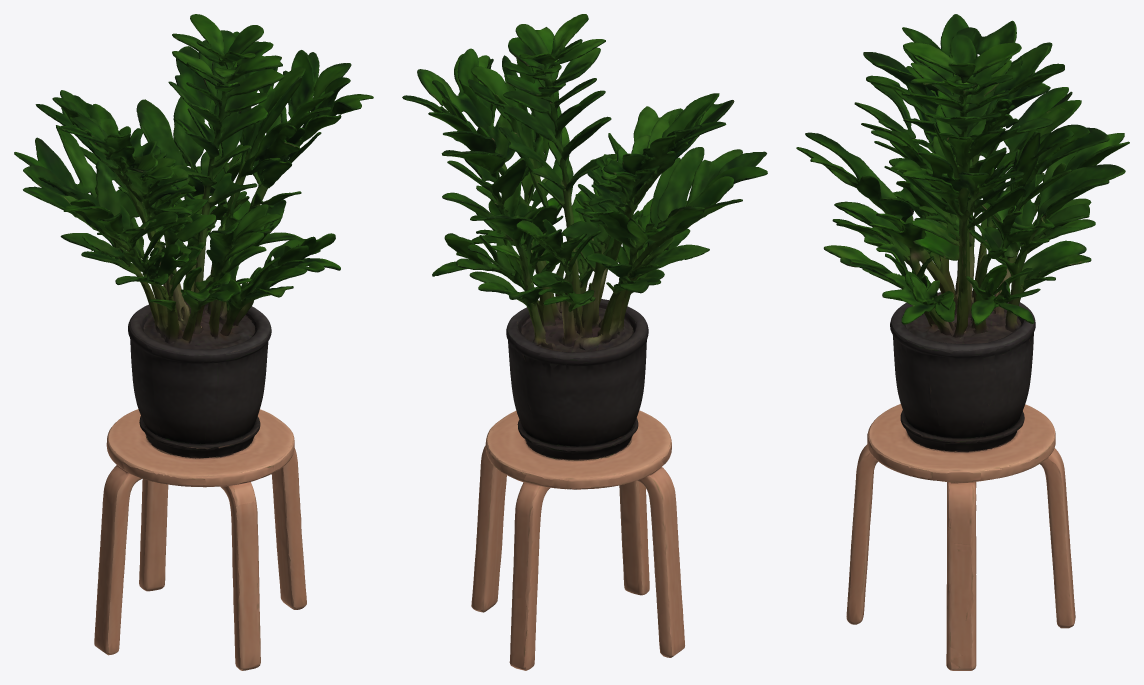
Rendered from item_3583abd2.glb.
3 views of the same model, side by side, from view 1: azimuth 30°, elevation 25°; view 2: azimuth 150°, elevation 25°; view 3: azimuth 270°, elevation 25° (orthographic).
Visible parts, largest first — view 1: world; view 2: world; view 3: world.
Part boxes in pixels (x1,y1,x2,y2): world: (14, 14, 373, 670); world: (402, 14, 767, 670); world: (796, 14, 1129, 670).
Size of the model in its own units: 0.5222 by 0.9 by 0.4624.
1 material, 1 textured.
